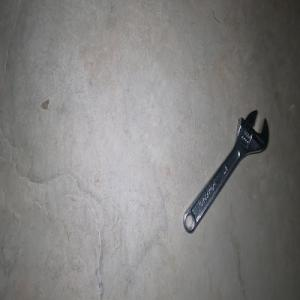Wrench: (182, 109, 268, 233)
